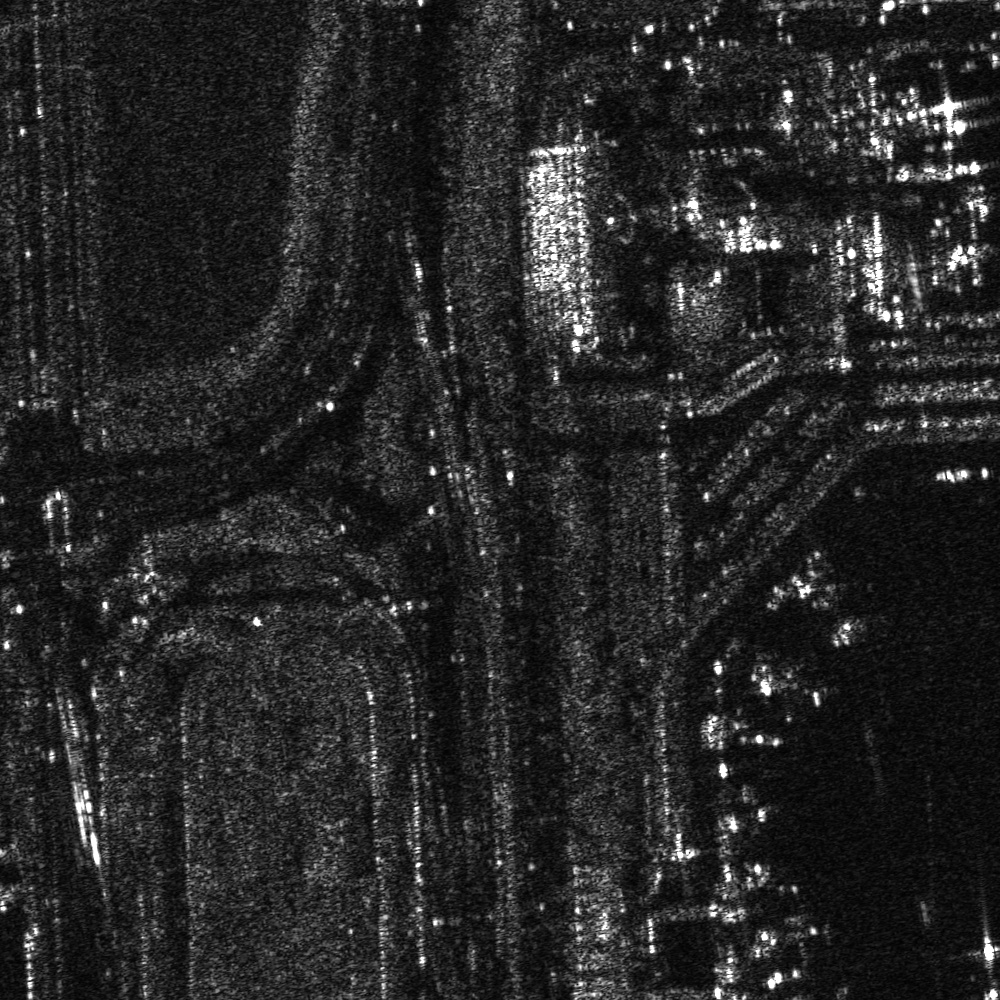A220: (787, 578, 878, 648), (753, 657, 839, 726), (756, 898, 841, 964)
